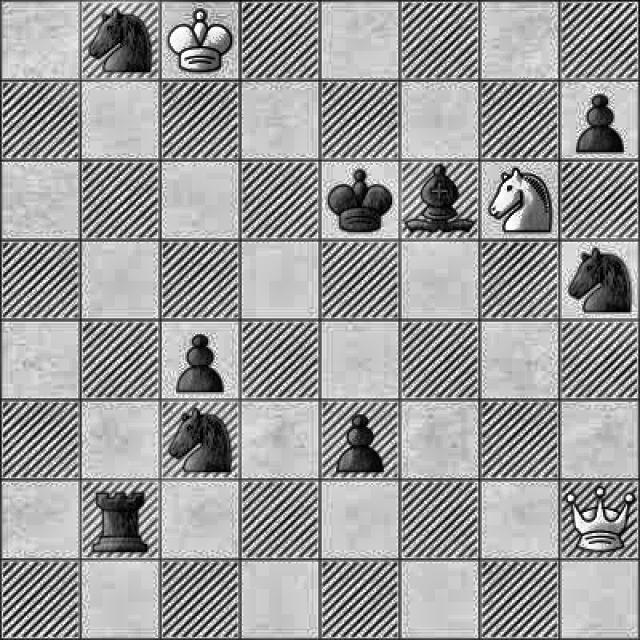Black Knight: (84, 3, 156, 77), (564, 241, 633, 318), (169, 403, 234, 478)
black bishop: (401, 160, 477, 240)
black king: (322, 161, 393, 238)
black pawn: (168, 322, 231, 394), (574, 86, 632, 154), (329, 413, 388, 478)
black rook: (79, 485, 158, 559)
white king: (168, 3, 234, 80)
white queen: (560, 478, 640, 559)
whiteknight: (490, 162, 556, 238)
